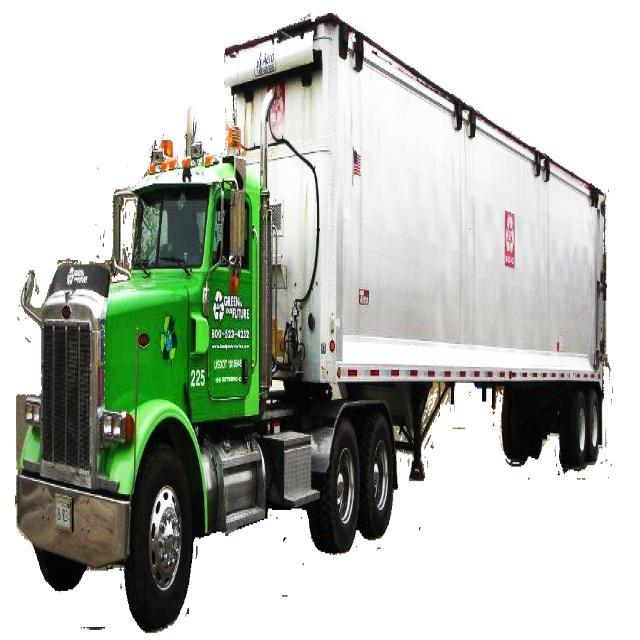traffic light: (14, 10, 608, 631)
